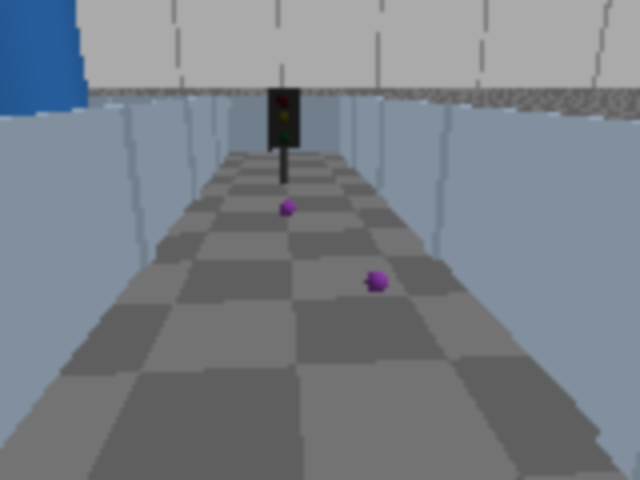person: (0, 0, 104, 255)
puck: (365, 266, 389, 298), (279, 199, 296, 219)
traffic_light: (267, 83, 301, 188)
